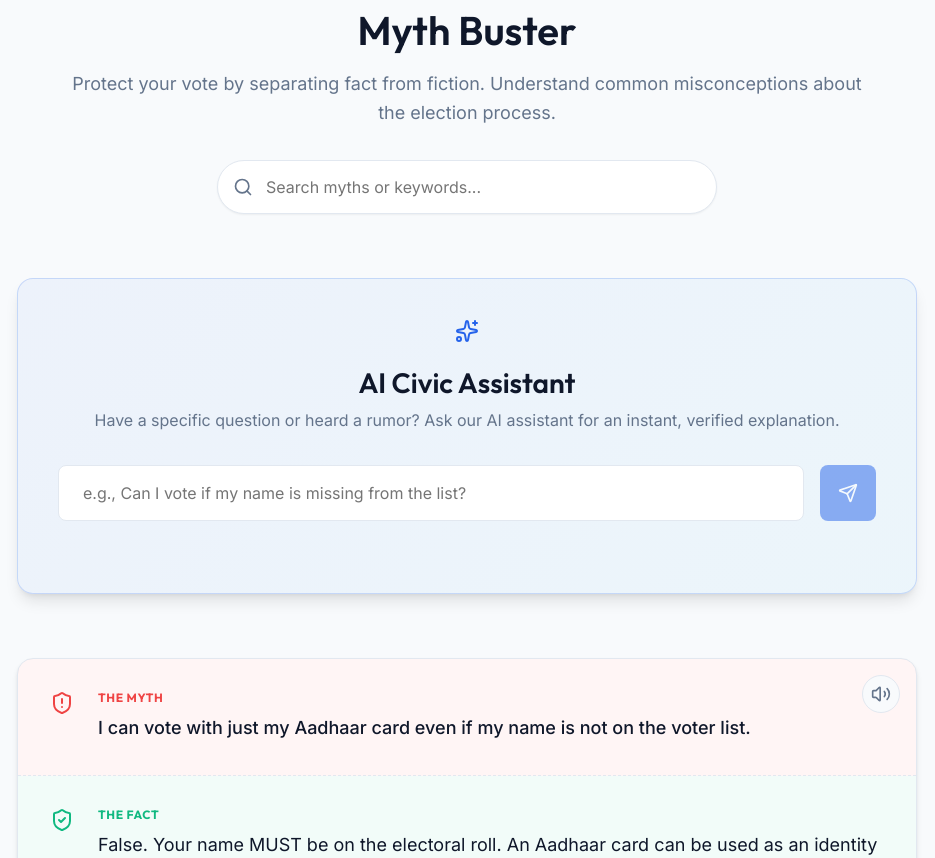
Test case: Myths Page › filters myths based on search input
The width and height of the screenshot is (935, 858).
Expected: the text "I can vote with just my Aadhaar card even if my name is not on the voter list." is shown, [98,714,751,743]
Note: Type something that doesn't match
In the field with placeholder "Search myths or keywords...": (467, 187) [217,160,717,214], type "XYZNonExistent"
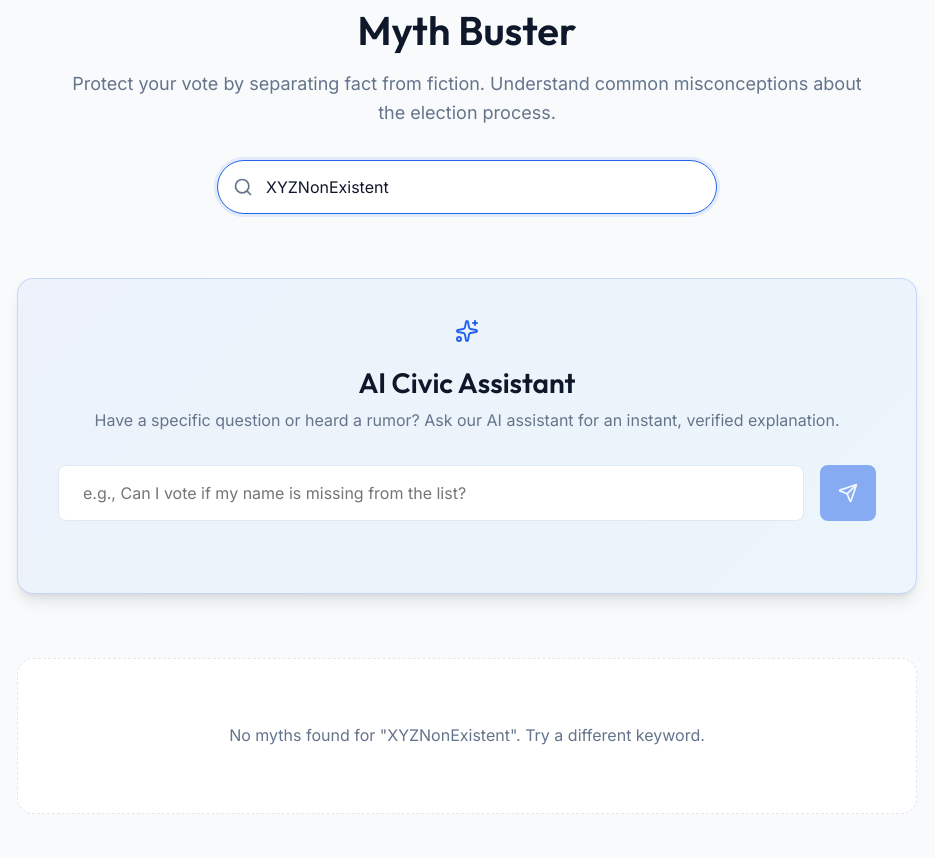
Result: the text "I can vote with just my Aadhaar card even if my name is not on the voter list." is gone
Result: the text "No myths found" is shown at [229,725,387,745]
